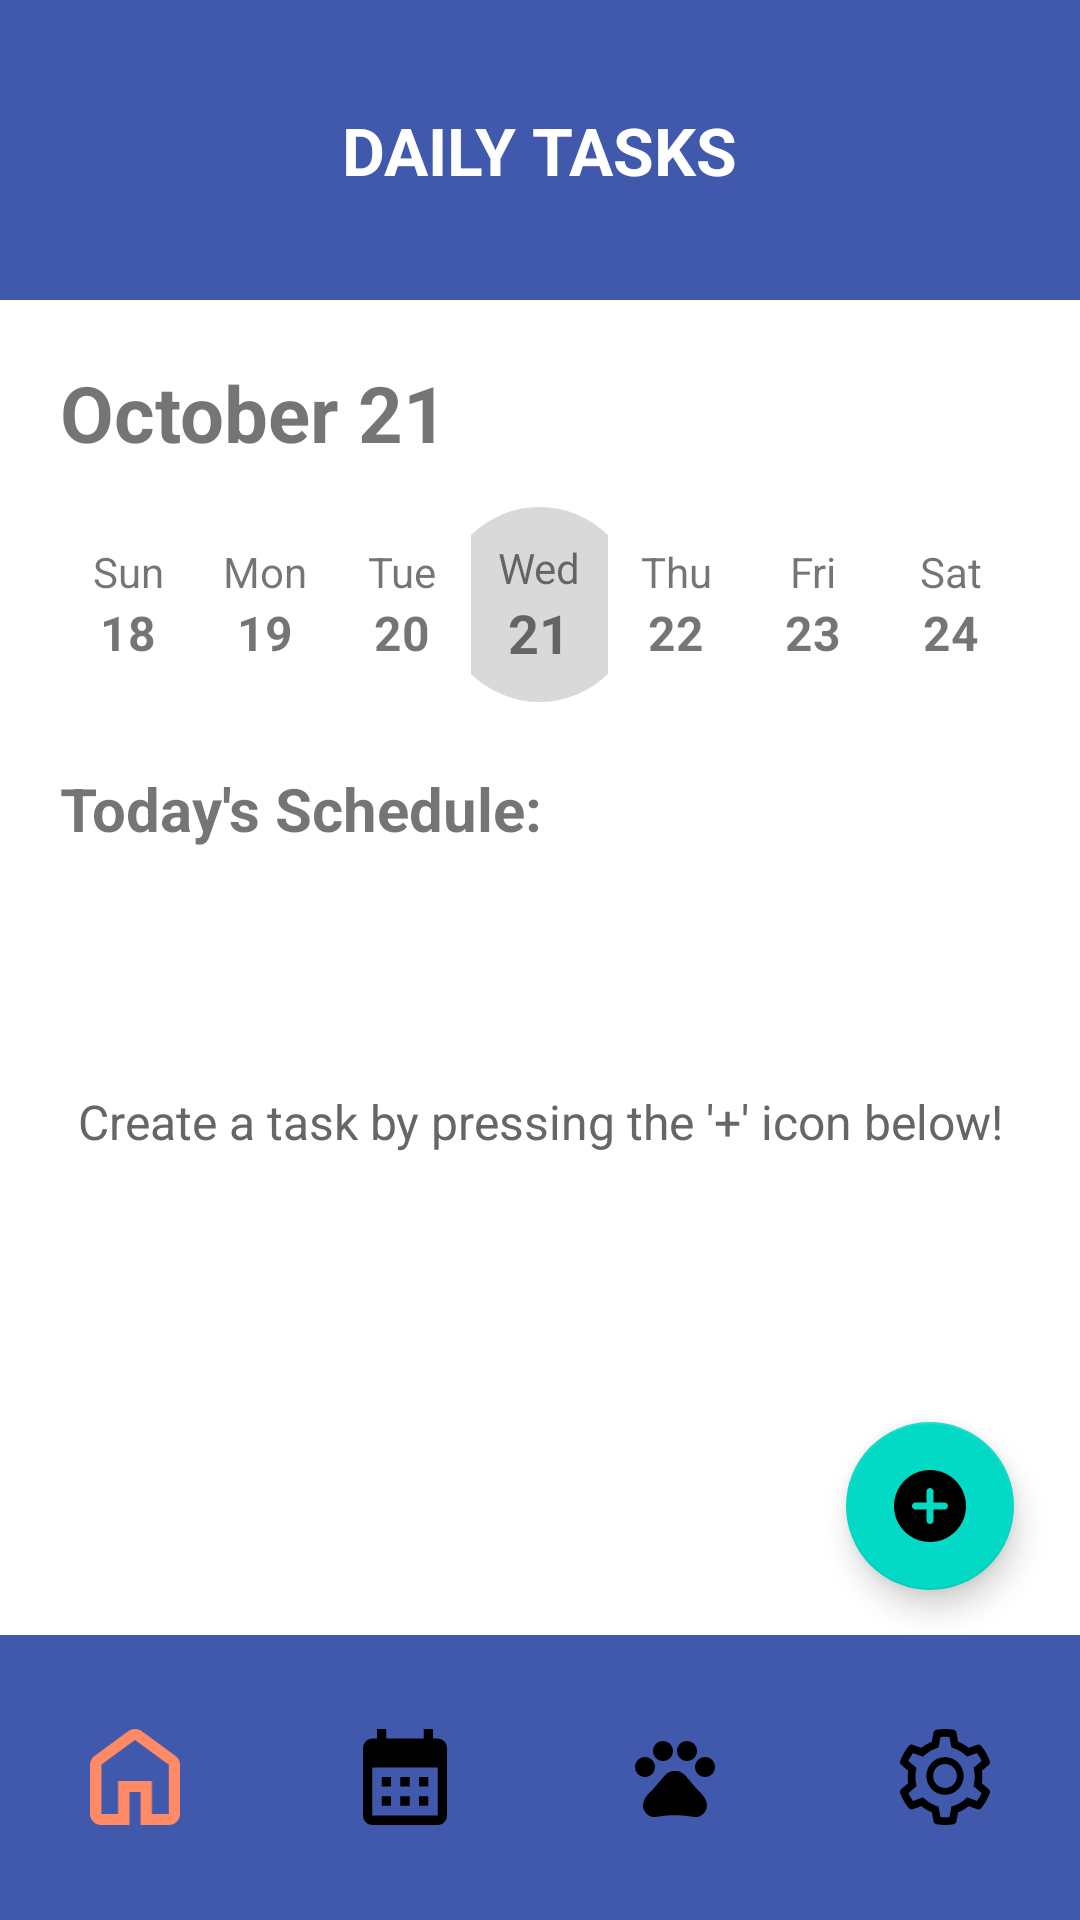

Where to tap for icons on this 1080px×1920px app screen, as point (x, y):
calendar: point (405, 1777)
home: point (135, 1777)
pets: point (675, 1779)
plus: point (930, 1506)
settings: point (945, 1777)
